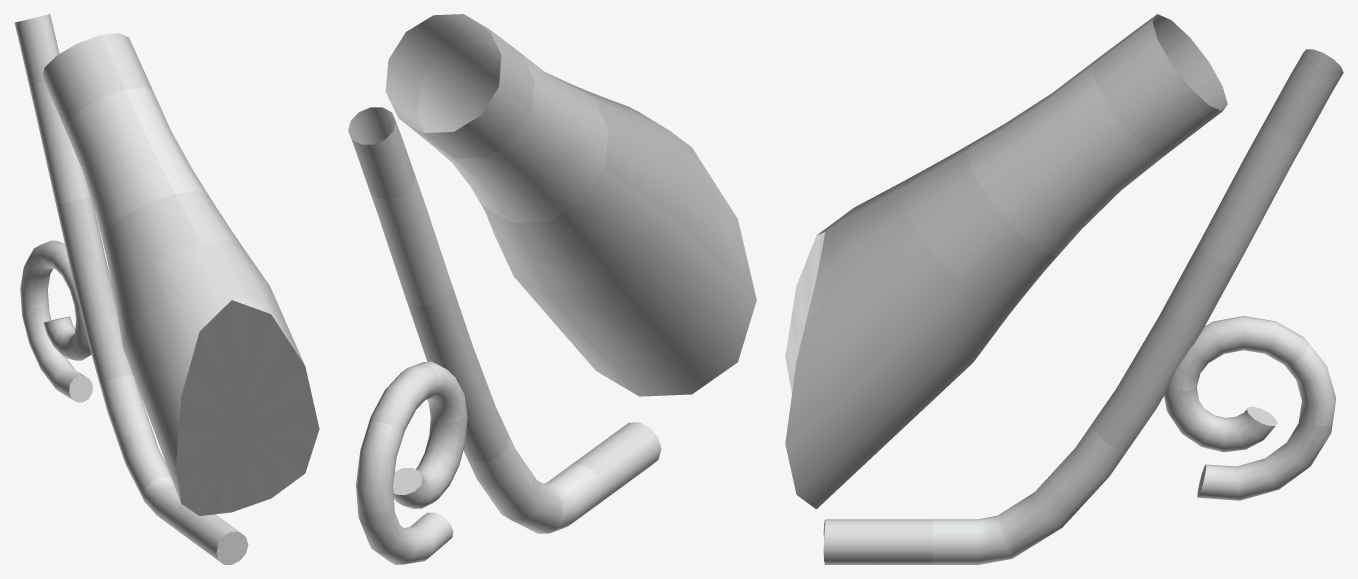
File: luminairearm_anaheim8ft_c0_thin.obj
The picture shows the model from 3 angles, left to right: view 1: azimuth 30°, elevation 25°; view 2: azimuth 150°, elevation 25°; view 3: azimuth 270°, elevation 25°; orthographic projection. The views are drawn at different scales.
Visible parts, largest first — view 1: luminairearm_anaheim8ft_c0_thin; view 2: luminairearm_anaheim8ft_c0_thin; view 3: luminairearm_anaheim8ft_c0_thin.
Part boxes in pixels (<box>): luminairearm_anaheim8ft_c0_thin: <box>14,14,319,564</box>; luminairearm_anaheim8ft_c0_thin: <box>348,14,756,564</box>; luminairearm_anaheim8ft_c0_thin: <box>785,14,1343,564</box>.
Bounding box in the file's own units: 0.3375 × 0.9761 × 0.9116.
